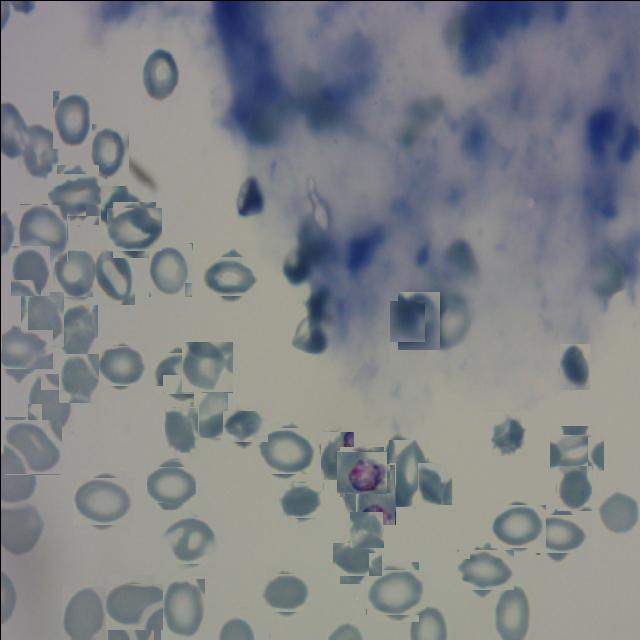leukocyte: (424, 286, 474, 352), (102, 578, 158, 634), (3, 418, 60, 473), (344, 463, 395, 524), (76, 474, 130, 528), (368, 565, 422, 618), (19, 203, 67, 261), (27, 372, 73, 432), (162, 514, 215, 566), (388, 440, 428, 508), (260, 424, 312, 476), (160, 578, 204, 639), (51, 169, 102, 220), (182, 341, 232, 392), (460, 544, 510, 594), (156, 348, 206, 398), (393, 295, 443, 345), (92, 245, 134, 304), (20, 290, 64, 346), (204, 250, 253, 300), (534, 509, 584, 558), (108, 204, 158, 253), (492, 502, 542, 550), (148, 242, 192, 296), (61, 586, 105, 640), (0, 323, 46, 374), (56, 303, 97, 360), (140, 44, 180, 102), (50, 90, 90, 148), (19, 122, 58, 180), (89, 123, 128, 180), (96, 342, 144, 388), (100, 185, 141, 238), (596, 488, 640, 537), (554, 430, 600, 475), (10, 244, 50, 295), (58, 353, 98, 402), (263, 570, 307, 614), (150, 462, 192, 506), (54, 250, 94, 296), (193, 383, 227, 437), (336, 538, 376, 580), (556, 464, 592, 510), (280, 479, 320, 520), (490, 411, 527, 455), (320, 431, 353, 479), (164, 406, 198, 452), (417, 461, 452, 504), (225, 406, 263, 444), (559, 343, 589, 389), (349, 510, 383, 547)
schizont: (337, 448, 384, 494)
